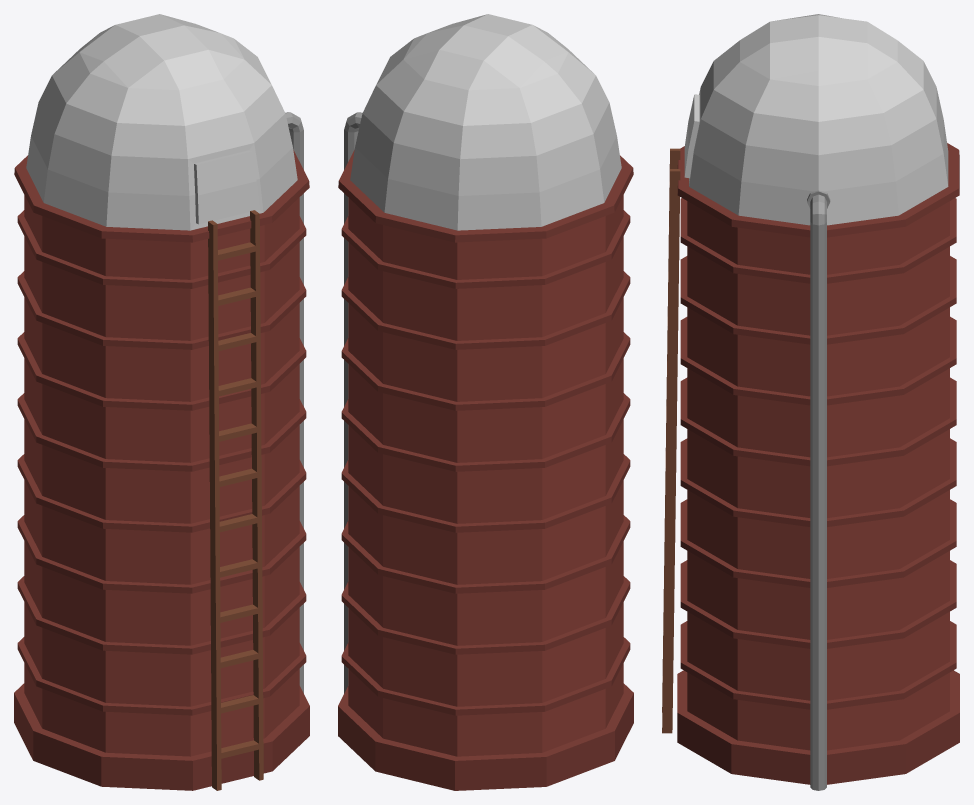
Rendered from silo.glb.
The picture shows the model from 3 angles, left to right: view 1: azimuth 30°, elevation 25°; view 2: azimuth 150°, elevation 25°; view 3: azimuth 270°, elevation 25°; orthographic projection.
Parts seen in each view (by area): view 1: Silo_Cylinder.007; view 2: Silo_Cylinder.007; view 3: Silo_Cylinder.007.
Boxes of the visible parts, x1,y1,x2,y2 form: Silo_Cylinder.007: [14, 14, 309, 790]; Silo_Cylinder.007: [338, 14, 633, 790]; Silo_Cylinder.007: [662, 14, 959, 790].
Size of the model in its own units: 3.67 by 9.07 by 3.51.
